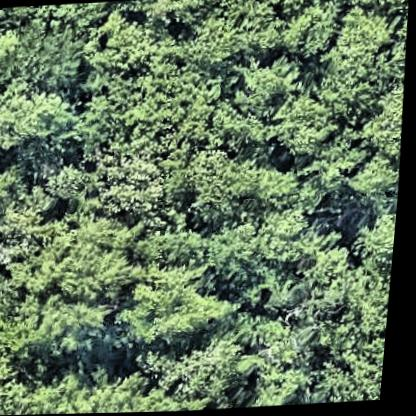tree-top: (21, 216, 141, 360), (124, 255, 249, 353), (44, 140, 175, 232), (181, 153, 308, 222), (34, 359, 189, 415), (0, 14, 92, 95), (245, 315, 322, 409), (0, 76, 84, 156), (144, 337, 253, 397), (193, 0, 290, 65), (221, 212, 317, 275), (317, 332, 392, 405), (82, 7, 163, 71), (228, 53, 304, 116), (277, 0, 345, 66), (343, 254, 398, 335), (274, 94, 341, 159), (334, 5, 393, 70), (348, 152, 405, 215), (365, 89, 408, 161), (259, 273, 318, 323), (356, 213, 401, 272), (0, 167, 31, 213)
